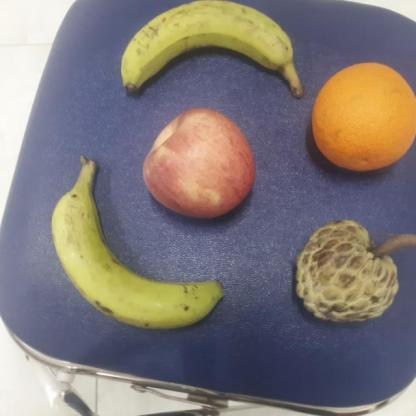annona: (292, 220, 400, 324)
apple: (137, 106, 259, 220)
banana: (48, 159, 226, 331), (120, 0, 299, 101)
orange: (306, 58, 416, 182)
